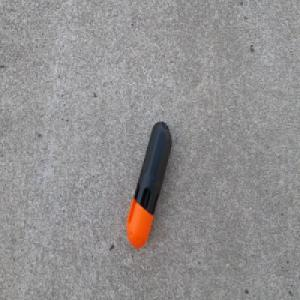PlasticPart: (124, 119, 171, 252)
